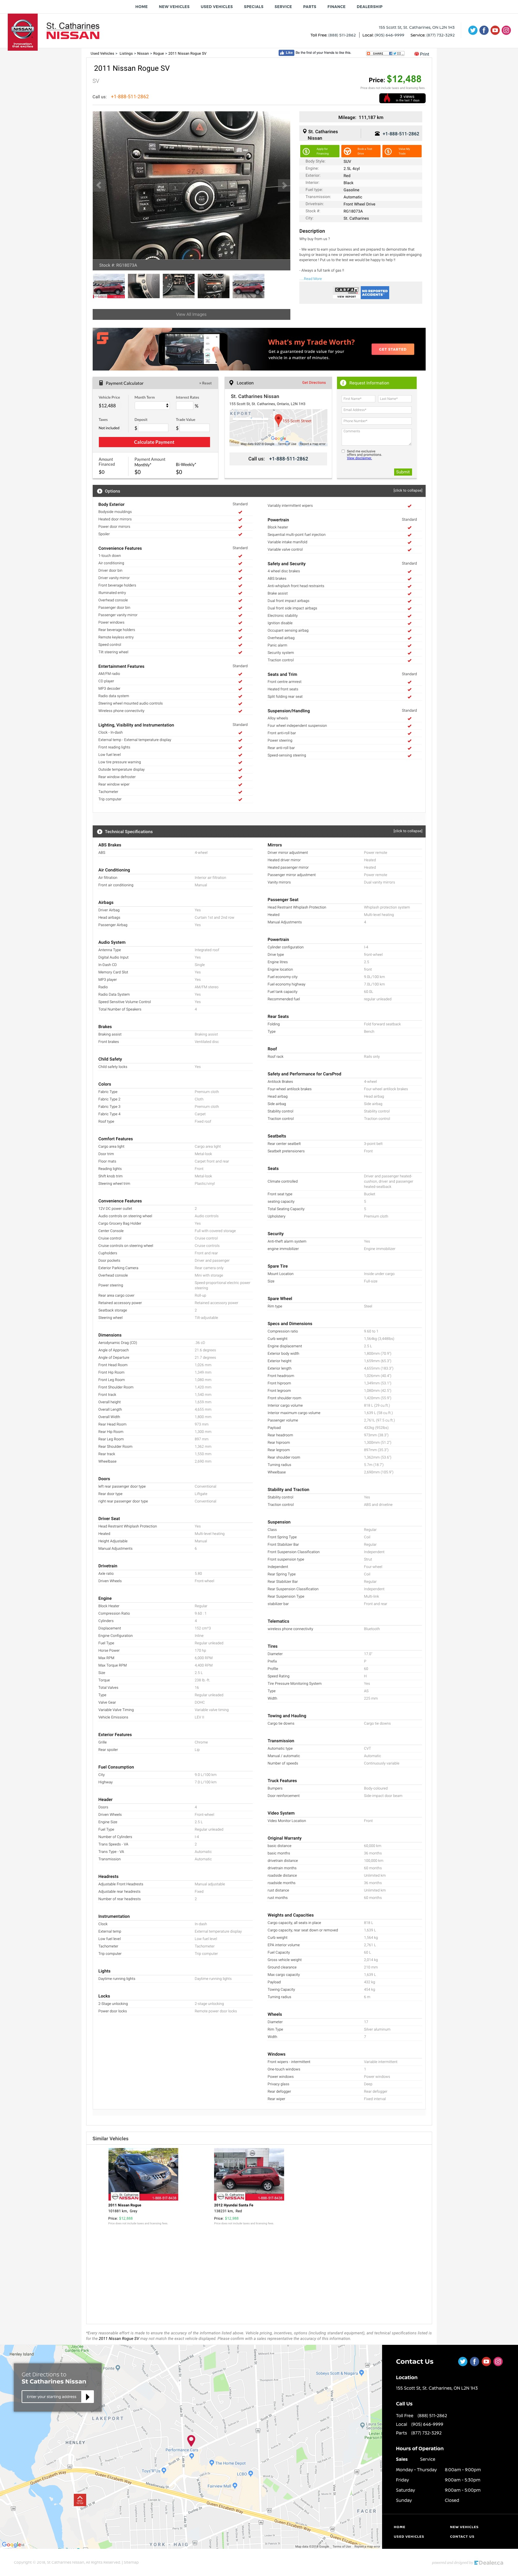car: (276, 179, 291, 192)
